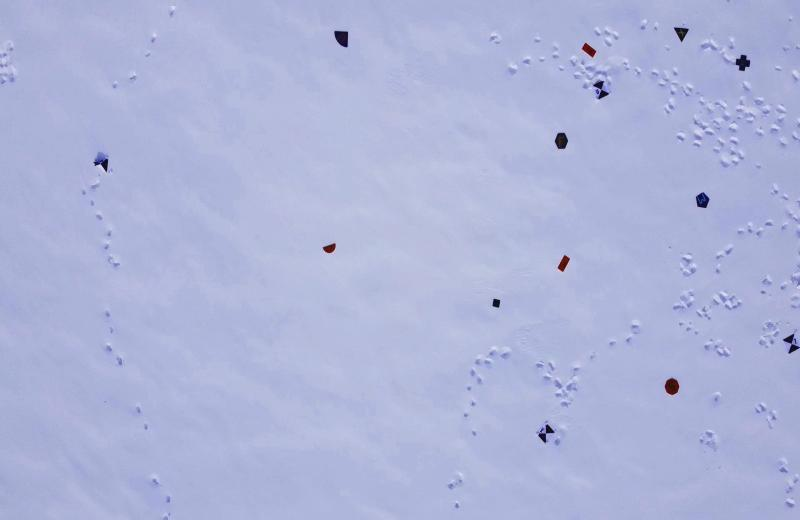Cross: (736, 54, 752, 74)
Hexagon: (553, 132, 569, 150)
Octagon: (663, 376, 681, 396)
Pentagon: (695, 192, 710, 211)
Quarter Circle: (332, 29, 350, 50)
Rectangle: (582, 41, 596, 59), (557, 254, 571, 272)
Semi Circle: (322, 242, 338, 256)
Square: (490, 297, 502, 310)
Triangle: (674, 26, 690, 46)
